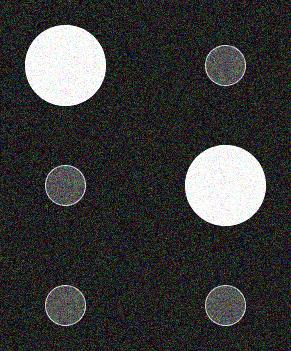E: (19, 19, 274, 338)
